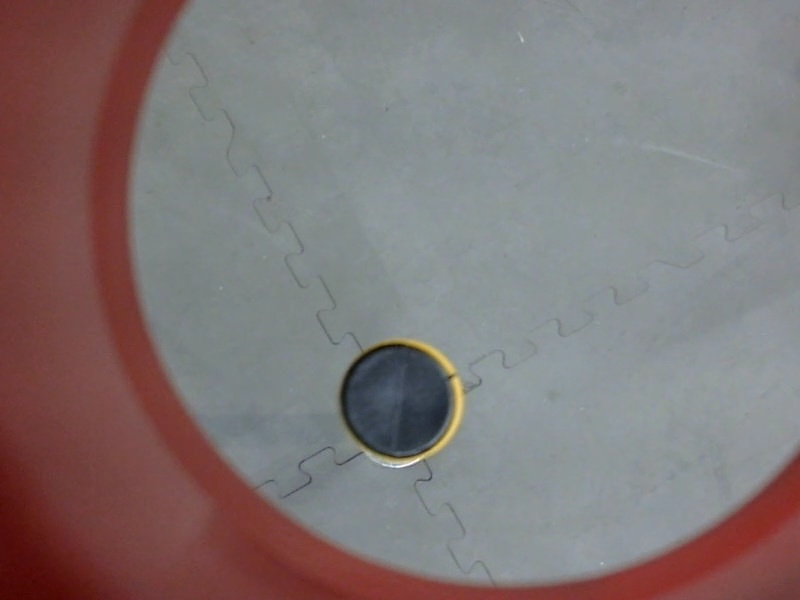tip: (327, 321, 472, 475)
